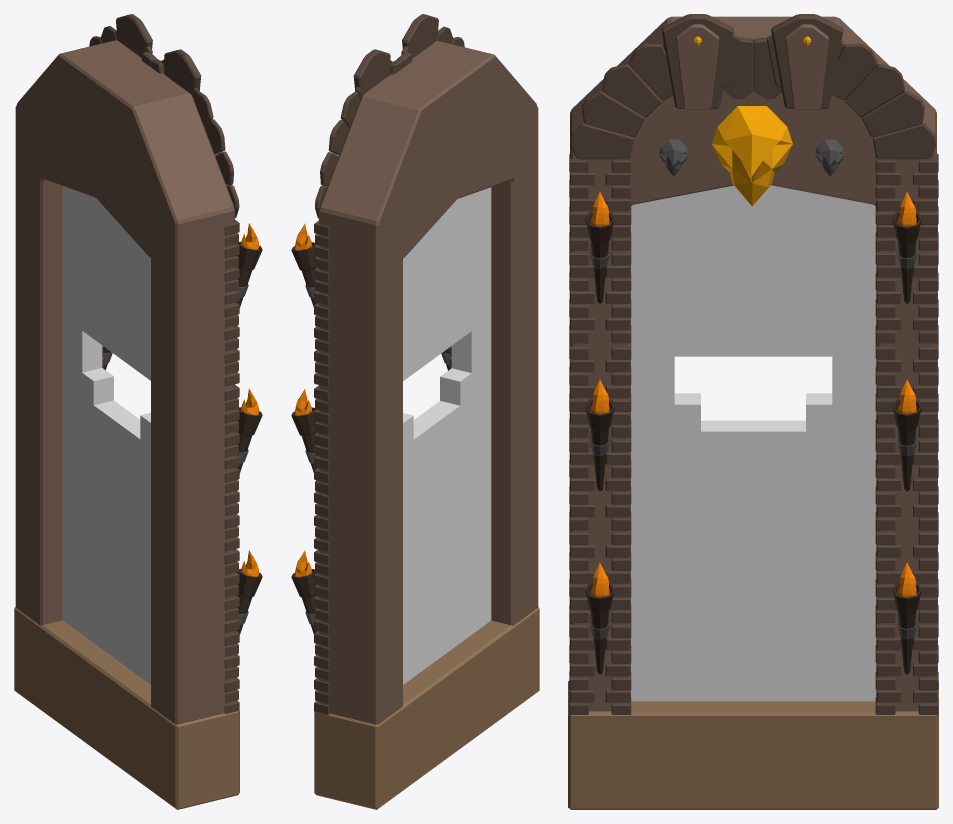
File: wall_002.fbx
3 renders of one model, left to right at view 1: azimuth 30°, elevation 25°; view 2: azimuth 150°, elevation 25°; view 3: azimuth 270°, elevation 25°, orthographic. The views are drawn at different scales.
Visible parts, largest first — view 1: Collection|Block_wo_Wand_verschwindet_L_wall_border.blend|Du, Plane.003, Cube; view 2: Collection|Block_wo_Wand_verschwindet_L_wall_border.blend|Du, Plane.003, Cube; view 3: Collection|Block_wo_Wand_verschwindet_L_wall_border.blend|Du, Plane.003, Cube.
Boxes of the visible parts, x1=… form: Collection|Block_wo_Wand_verschwindet_L_wall_border.blend|Du: x1=14, y1=14, x2=262, y2=809; Plane.003: x1=62, y1=186, x2=150, y2=684; Cube: x1=93, y1=400, x2=140, y2=459; Collection|Block_wo_Wand_verschwindet_L_wall_border.blend|Du: x1=291, y1=14, x2=539, y2=809; Plane.003: x1=403, y1=187, x2=491, y2=684; Cube: x1=413, y1=401, x2=460, y2=460; Collection|Block_wo_Wand_verschwindet_L_wall_border.blend|Du: x1=568, y1=14, x2=938, y2=809; Plane.003: x1=631, y1=185, x2=876, y2=701; Cube: x1=701, y1=420, x2=805, y2=452.
Bounding box in the file's own units: 48.98 × 333 × 141.
